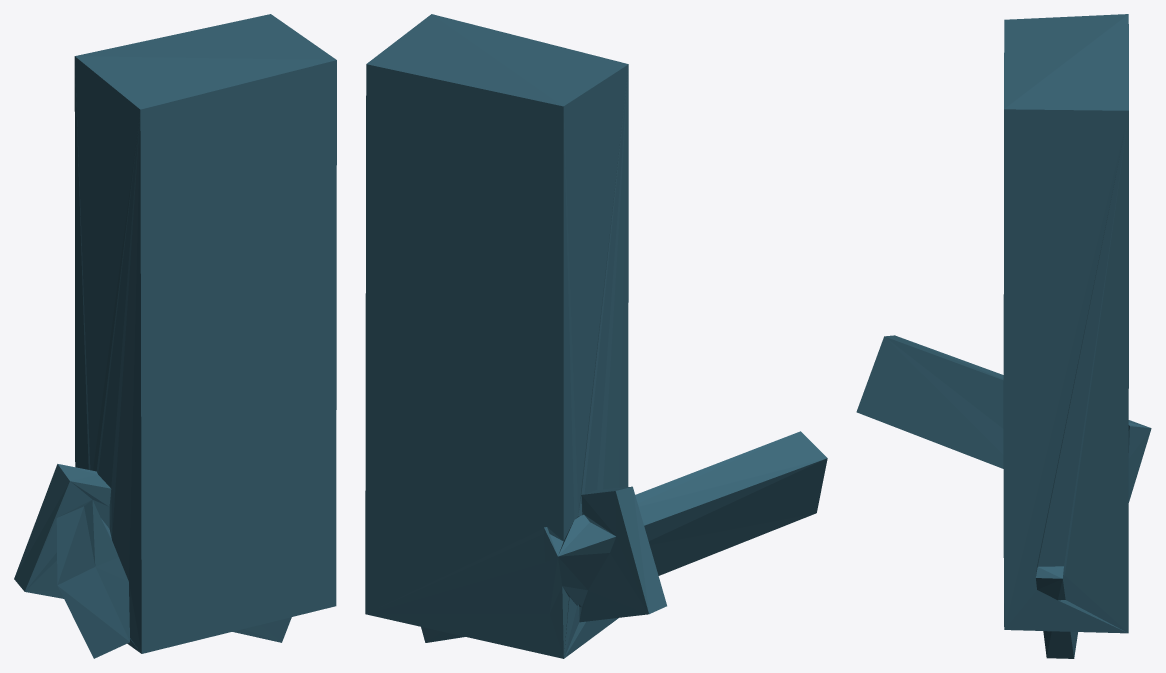
3 renders of one model, left to right at view 1: azimuth 30°, elevation 25°; view 2: azimuth 150°, elevation 25°; view 3: azimuth 270°, elevation 25°, orthographic. The views are drawn at different scales.
Parts seen in each view (by area): view 1: 384_Cube.1565; view 2: 384_Cube.1565; view 3: 384_Cube.1565.
Boxes of the visible parts, box(x1,y1,x2,y2) form: 384_Cube.1565: box(14, 14, 336, 658); 384_Cube.1565: box(365, 14, 827, 658); 384_Cube.1565: box(856, 14, 1151, 658).
Bounding box in the file's own units: 7.99 × 13.03 × 6.14.
